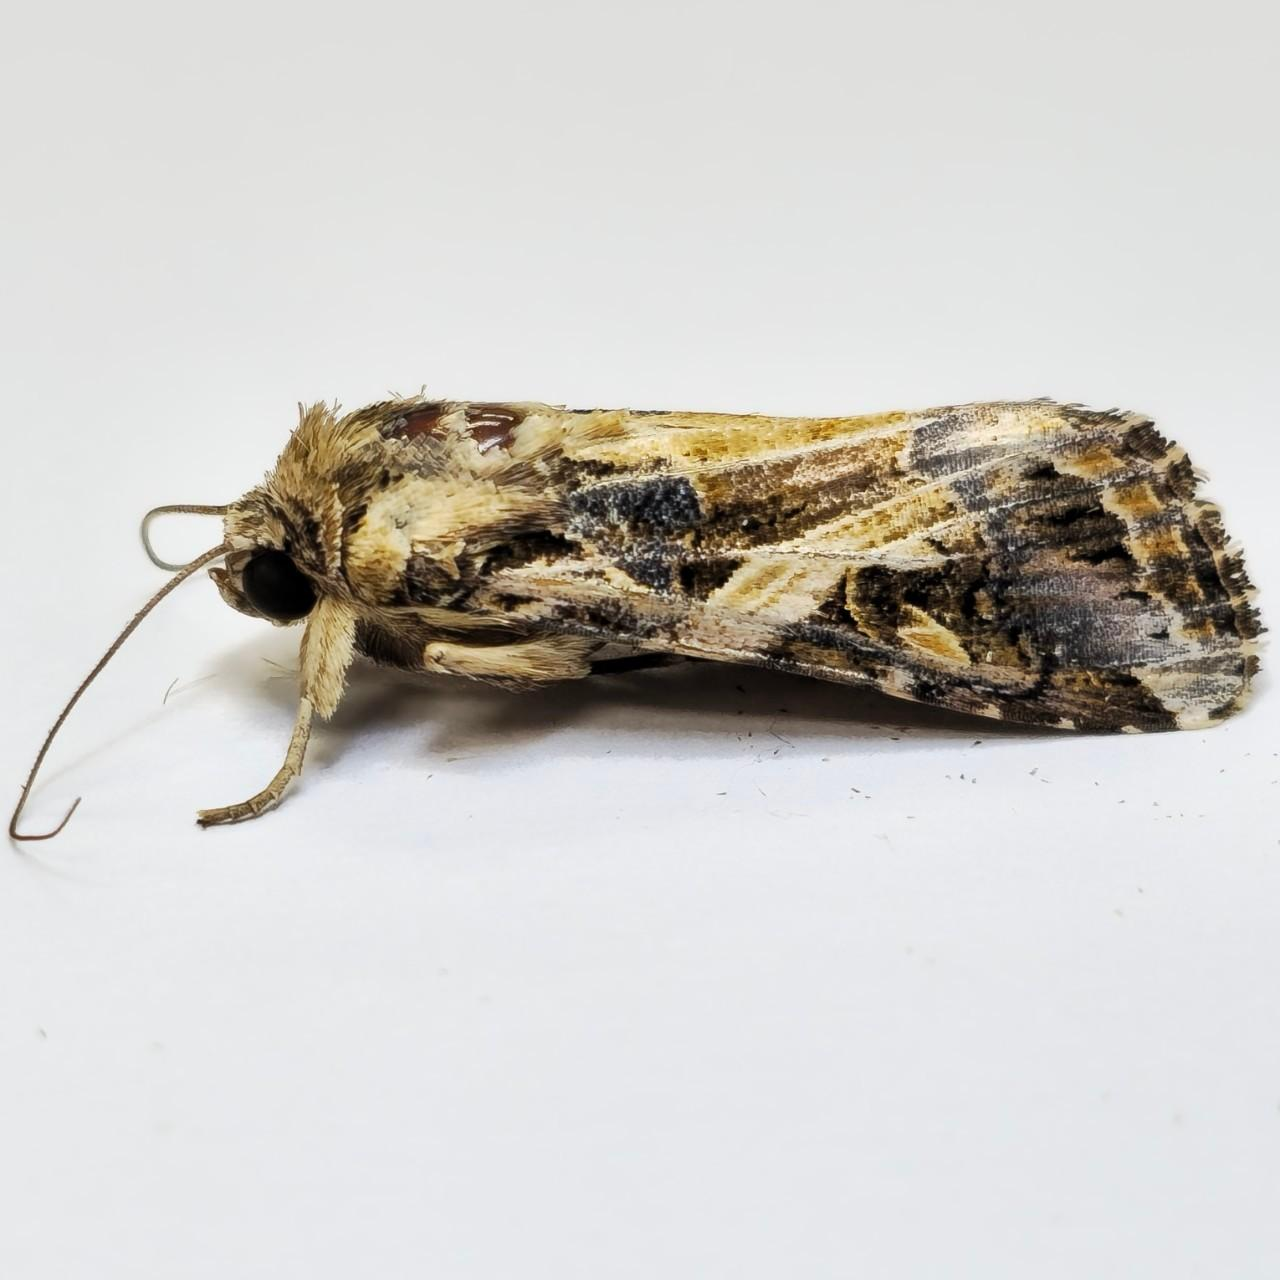Spodoptera litura: (8, 383, 1269, 843)
